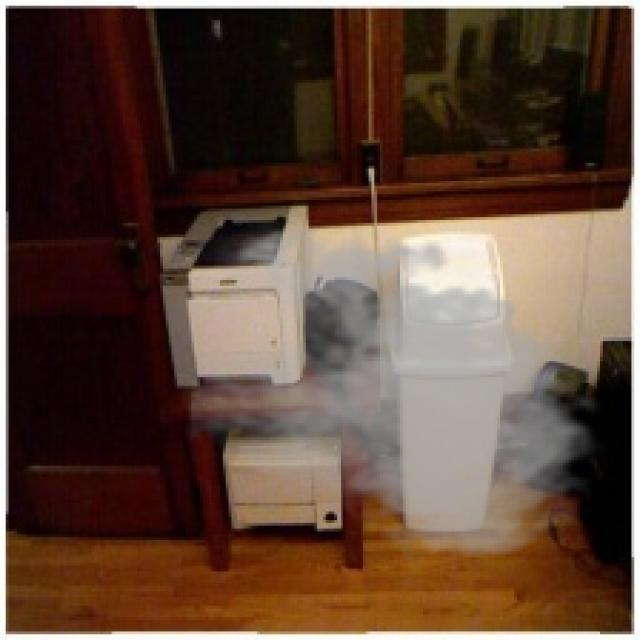Smoke: (186, 217, 608, 566)
